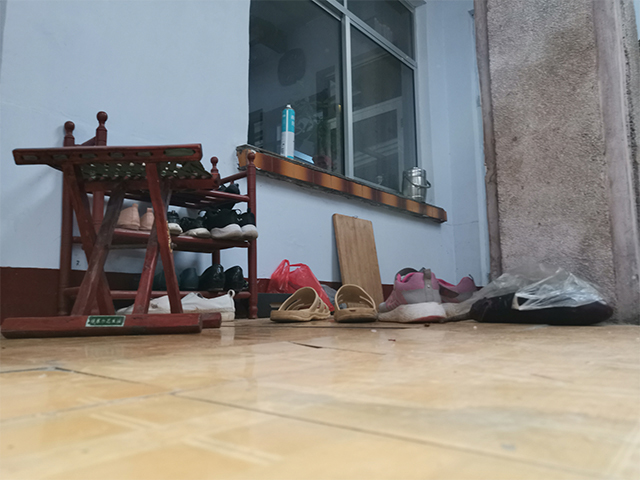slippers: (267, 282, 330, 325), (330, 281, 381, 324)
stool: (1, 141, 224, 341)
